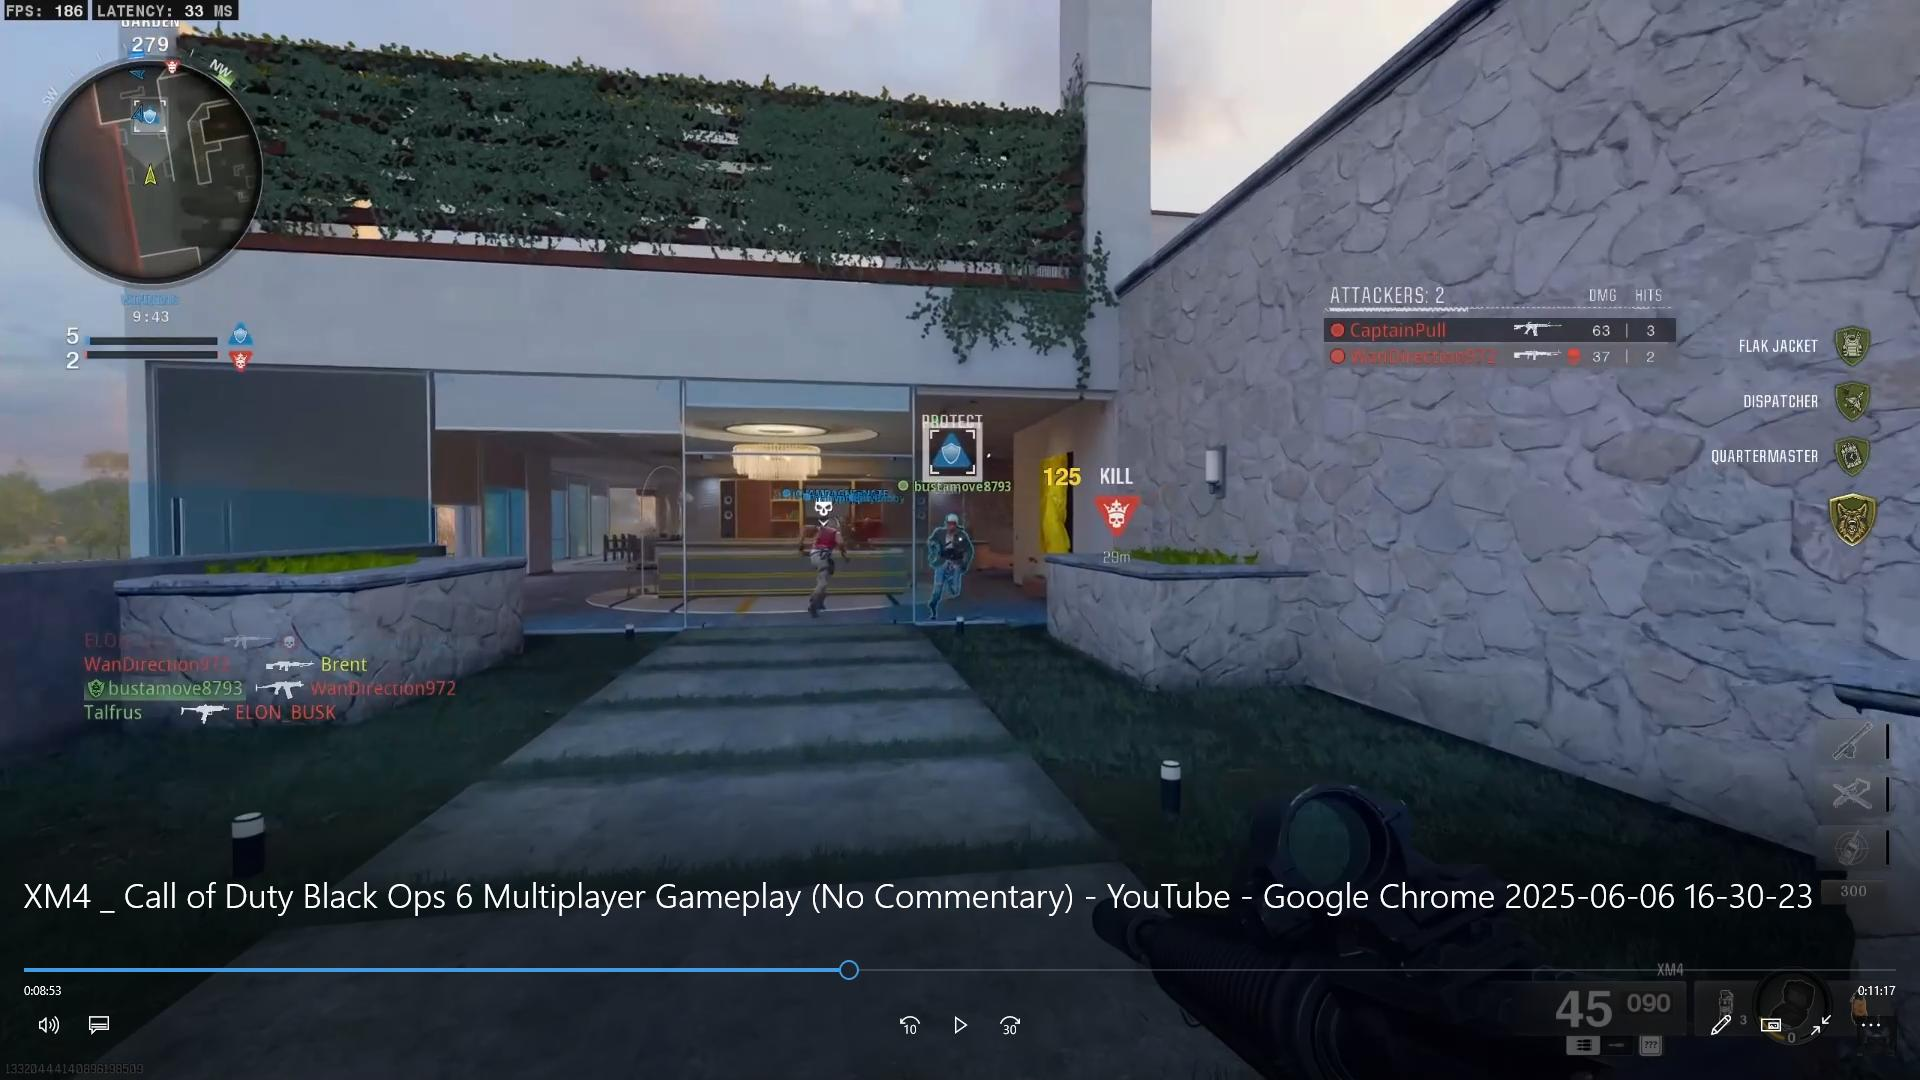Enemy: (806, 516, 847, 616)
